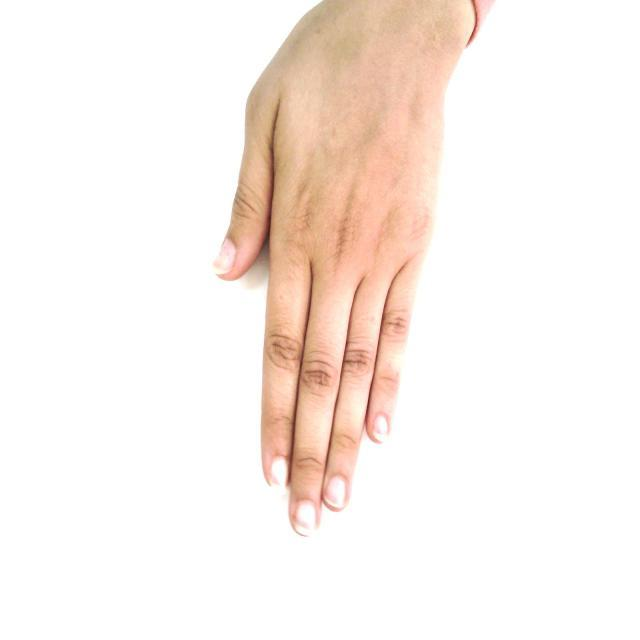Fingernail: (295, 500, 317, 535), (214, 239, 235, 272), (326, 477, 346, 509), (271, 457, 287, 487), (373, 415, 387, 441)
